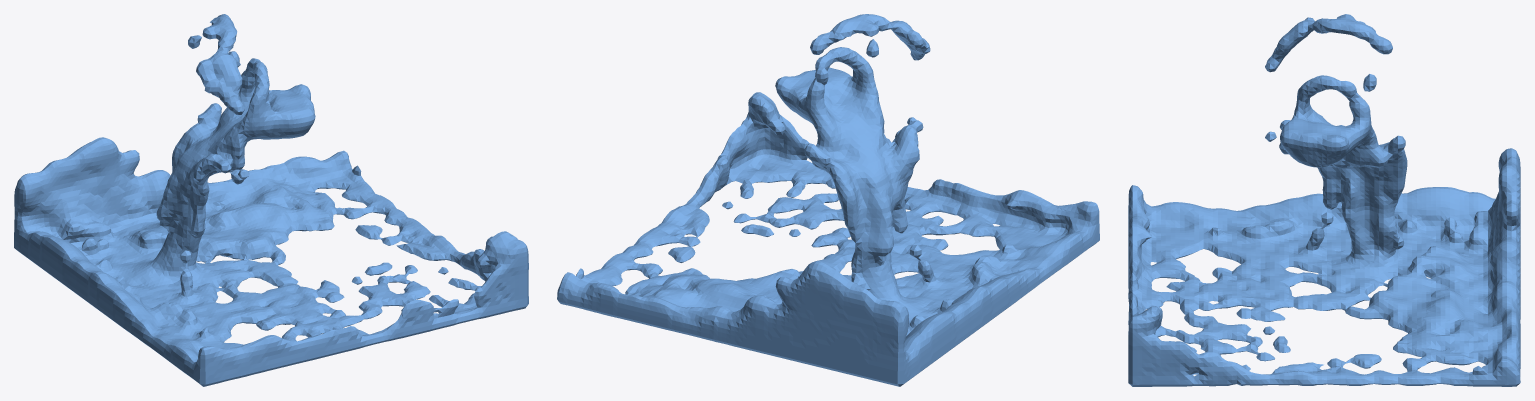
The model's file is water_0070.glb.
The picture shows the model from 3 angles, left to right: view 1: azimuth 30°, elevation 25°; view 2: azimuth 150°, elevation 25°; view 3: azimuth 270°, elevation 25°; orthographic projection. The views are drawn at different scales.
Visible parts, largest first — view 1: Water_0070; view 2: Water_0070; view 3: Water_0070.
Part boxes in pixels (box(x1,y1,x2,y2)): Water_0070: box(14, 14, 528, 386); Water_0070: box(557, 14, 1099, 386); Water_0070: box(1128, 14, 1520, 386).
Bounding box in the file's own units: 4.83 × 3.63 × 4.83.
